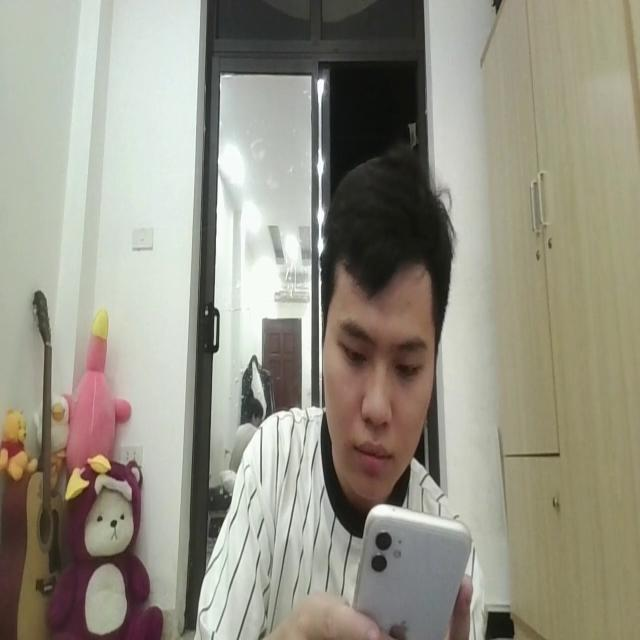phone: (352, 497, 470, 640)
student: (198, 152, 489, 640)
